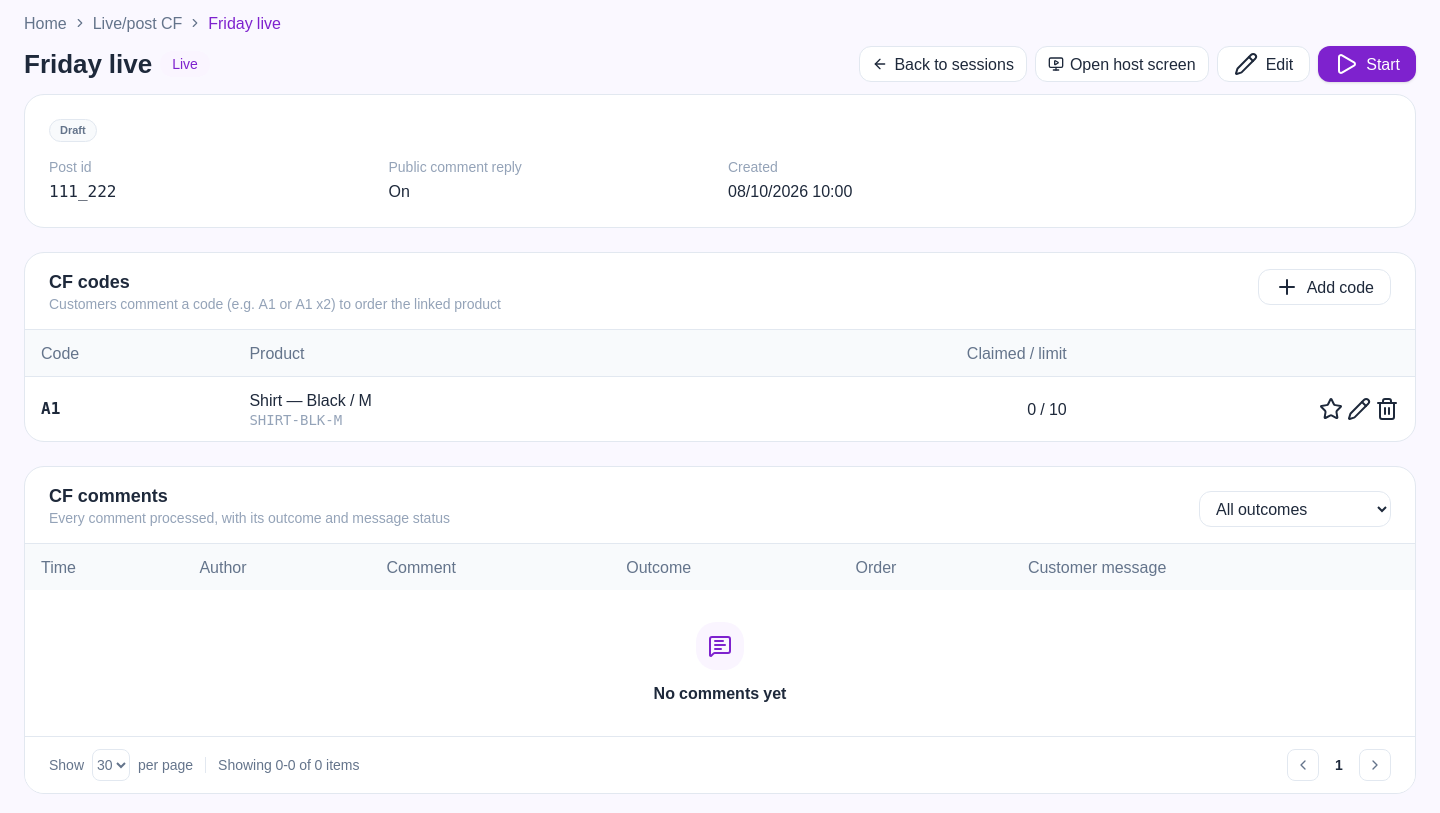
SessionDetail › action ລົ້ມ: alert ພ້ອມຂໍ້ຄວາມແປ
Click the button "Start": (1367, 64) [1318,46,1416,82]
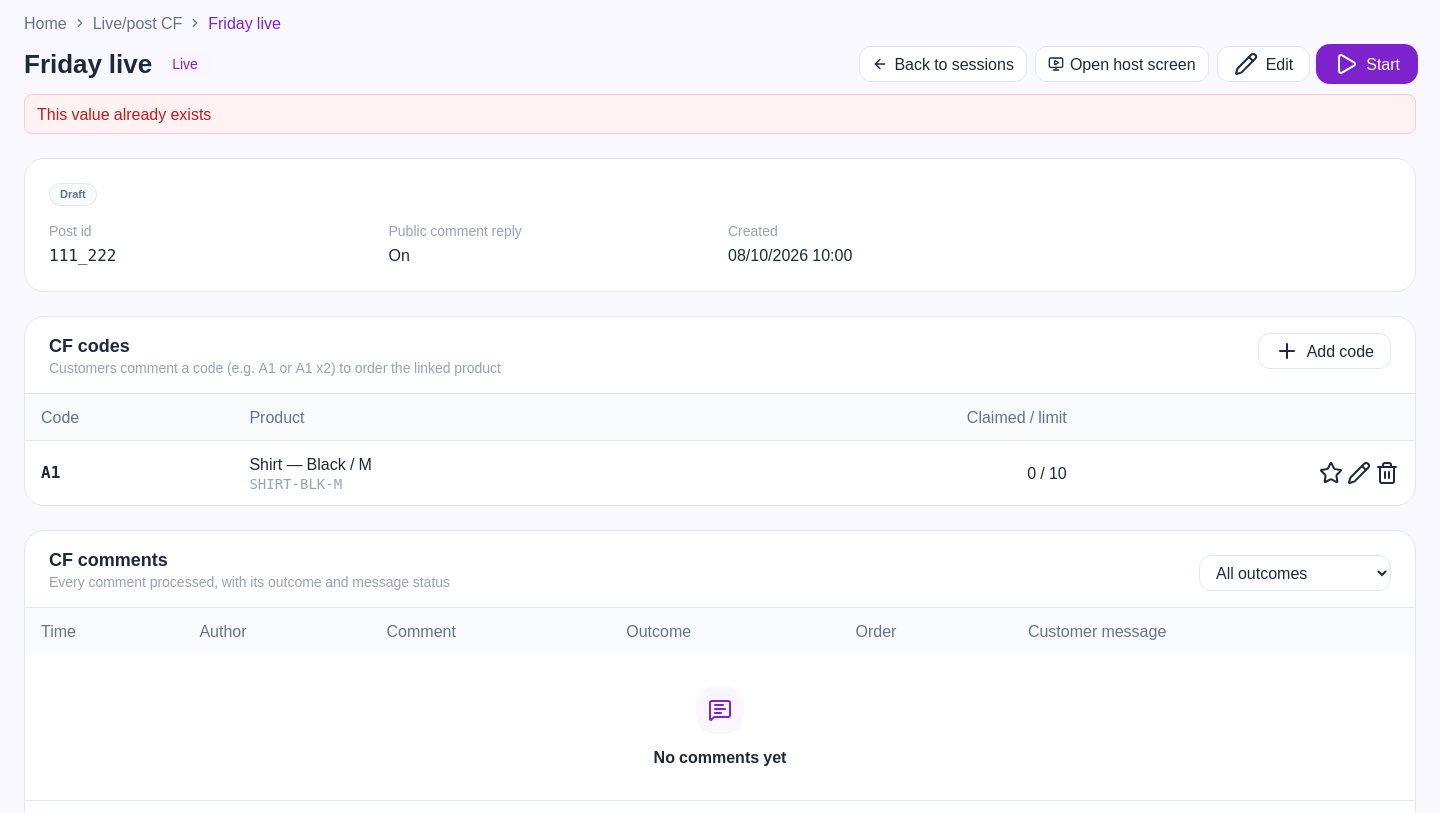
Expected: the text "This value already exists" is shown, [24,94,1416,134]
